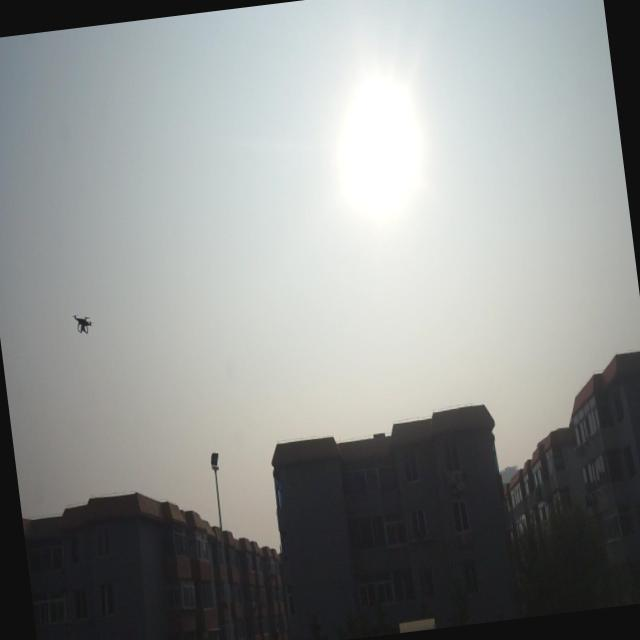drone: (71, 308, 95, 338)
